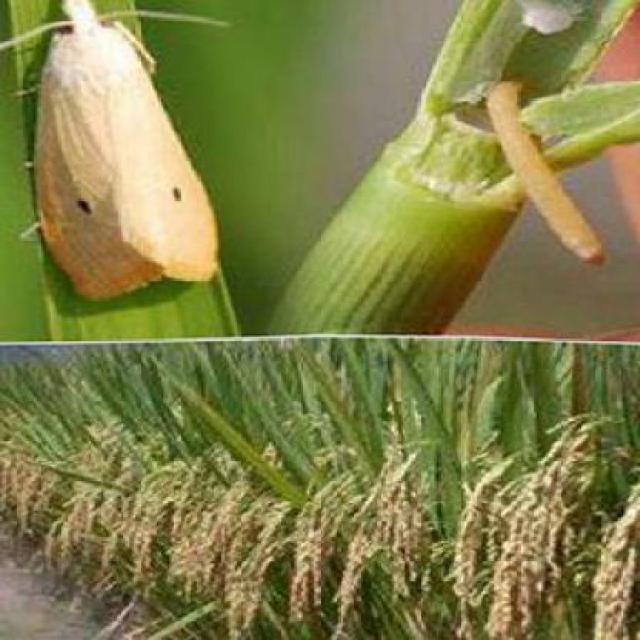stem-borer: (0, 0, 222, 305)
